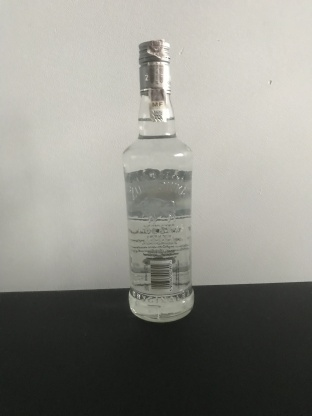nakretka: (137, 38, 173, 96)
